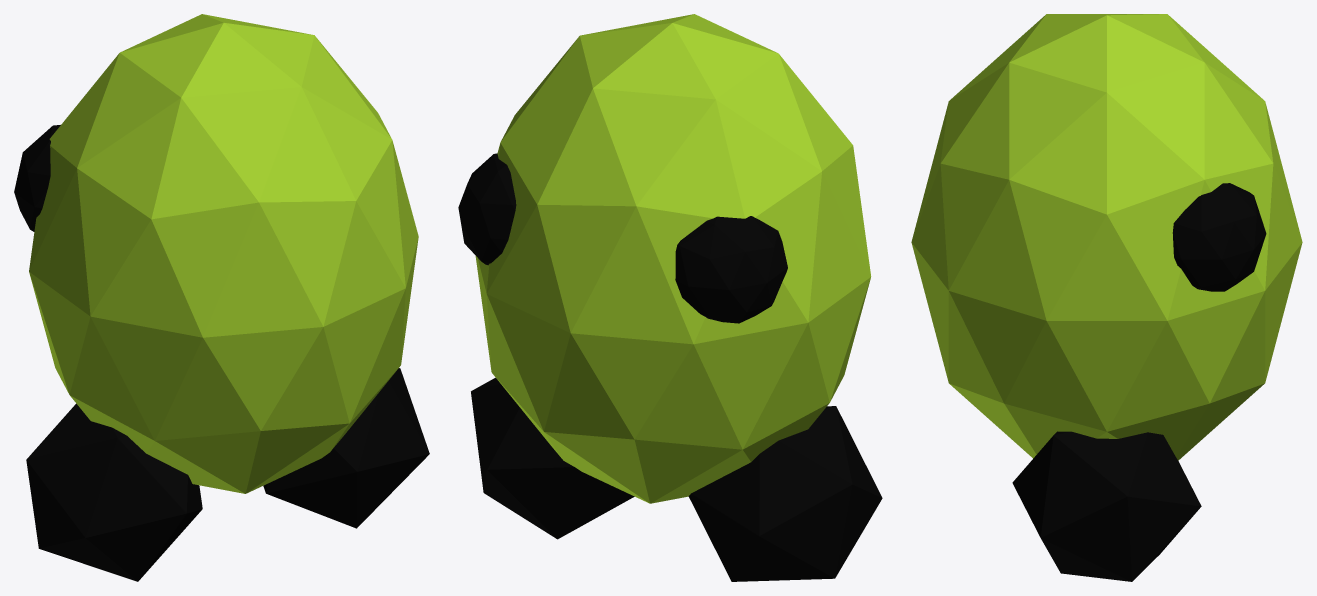
The model's file is explode.f0001.glb.
3 renders of one model, left to right at view 1: azimuth 30°, elevation 25°; view 2: azimuth 150°, elevation 25°; view 3: azimuth 270°, elevation 25°, orthographic. The views are drawn at different scales.
Visible parts, largest first — view 1: Body.001; view 2: Body.001; view 3: Body.001.
Boxes of the visible parts, box(x1,y1,x2,y2) form: Body.001: box(14, 14, 429, 581); Body.001: box(458, 14, 882, 581); Body.001: box(911, 14, 1302, 581).
Size of the model in its own units: 2.17 by 2.85 by 2.
Materials: 1 (1 with a texture image).
